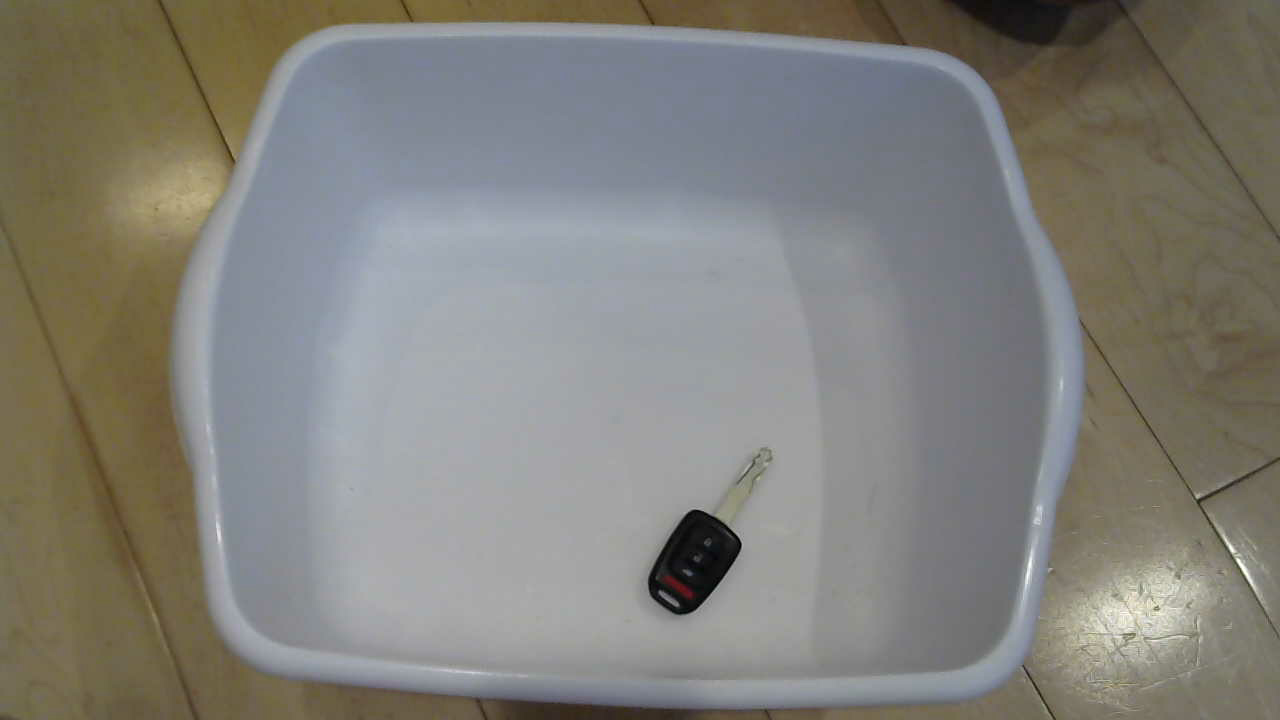key: (632, 450, 786, 624)
